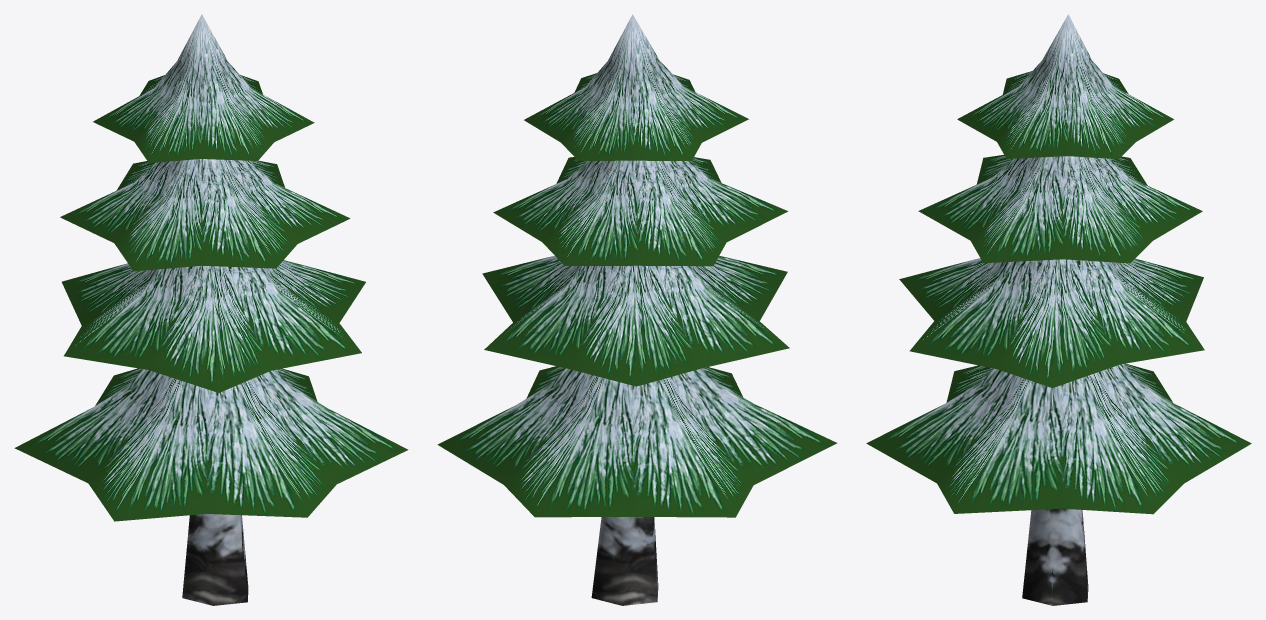
The model's file is Stage_BingYuan_Shu02.FBX.
The picture shows the model from 3 angles, left to right: view 1: azimuth 30°, elevation 25°; view 2: azimuth 150°, elevation 25°; view 3: azimuth 270°, elevation 25°; orthographic projection.
Visible parts, largest first — view 1: Stage_CaoYuan_ShuMu02; view 2: Stage_CaoYuan_ShuMu02; view 3: Stage_CaoYuan_ShuMu02.
Boxes of the visible parts, <box> form: Stage_CaoYuan_ShuMu02: <box>14,14,408,605</box>; Stage_CaoYuan_ShuMu02: <box>437,14,837,605</box>; Stage_CaoYuan_ShuMu02: <box>866,14,1251,605</box>.
Size of the model in its own units: 284 by 516 by 315.
